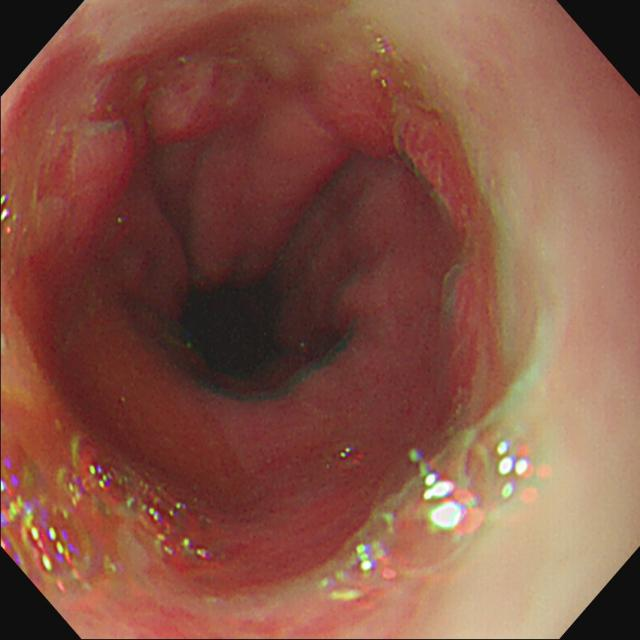A: (40, 122, 140, 248), (398, 112, 473, 226), (313, 75, 405, 161), (142, 72, 239, 148)
E: (190, 287, 285, 374)
U: (411, 439, 554, 538), (88, 460, 210, 560), (2, 460, 85, 598), (321, 539, 398, 604)
